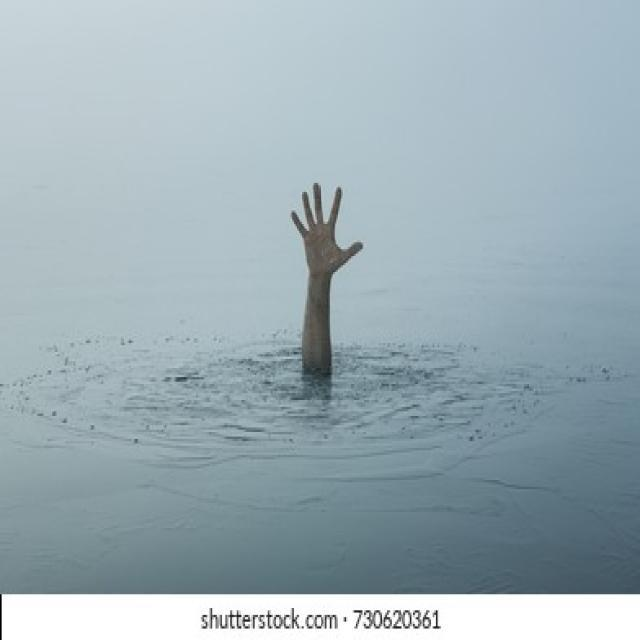Out of Water: (288, 215, 365, 413)
